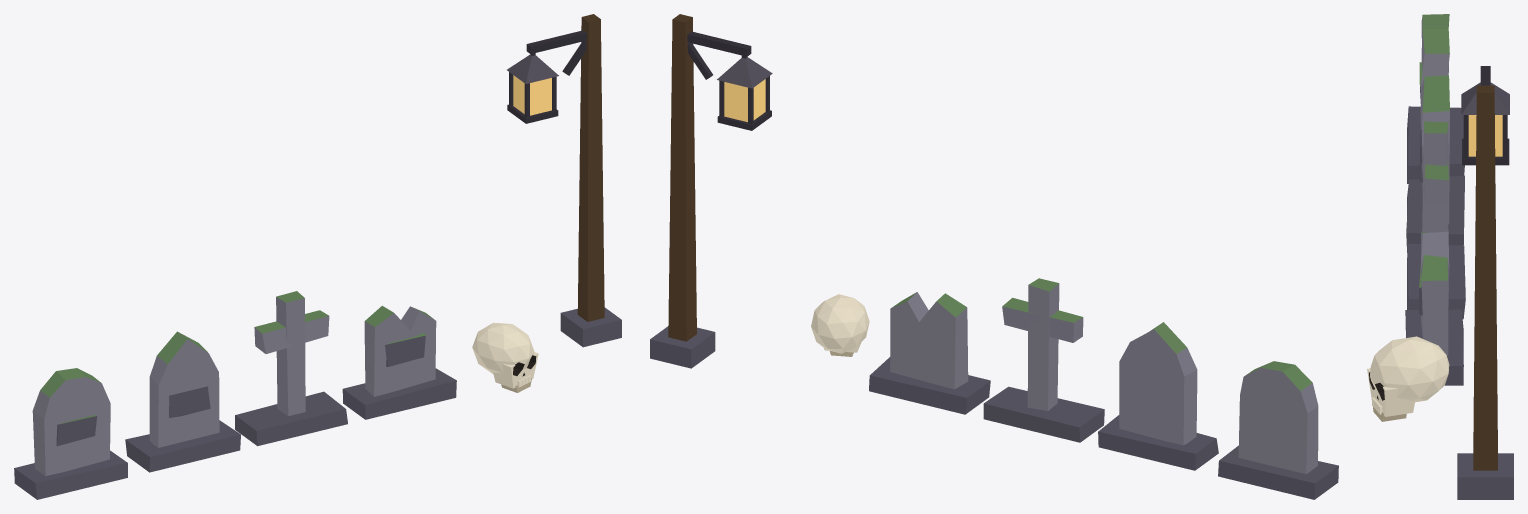
File: sample_props.glb
The picture shows the model from 3 angles, left to right: view 1: azimuth 30°, elevation 25°; view 2: azimuth 150°, elevation 25°; view 3: azimuth 270°, elevation 25°; orthographic projection. The views are drawn at different scales.
Visible parts, largest first — view 1: Lantern, Grave_Round, Grave_Gothic, Grave_Broken, Grave_Cross, Skull; view 2: Lantern, Grave_Gothic, Grave_Round, Grave_Broken, Grave_Cross, Skull; view 3: Lantern, Skull, Grave_Cross, Grave_Broken, Grave_Round, Grave_Gothic.
Boxes of the visible parts, bbox=[...] form: Lantern: bbox=[507, 14, 621, 347]; Grave_Round: bbox=[14, 368, 127, 499]; Grave_Gothic: bbox=[125, 331, 240, 472]; Grave_Broken: bbox=[342, 305, 456, 419]; Grave_Cross: bbox=[235, 291, 347, 446]; Skull: bbox=[472, 322, 538, 392]; Lantern: bbox=[650, 14, 772, 368]; Grave_Gothic: bbox=[1098, 322, 1218, 470]; Grave_Round: bbox=[1218, 361, 1338, 499]; Grave_Broken: bbox=[869, 292, 990, 414]; Grave_Cross: bbox=[983, 278, 1104, 442]; Skull: bbox=[811, 294, 869, 356]; Lantern: bbox=[1457, 66, 1513, 499]; Skull: bbox=[1367, 336, 1449, 421]; Grave_Cross: bbox=[1407, 121, 1465, 319]; Grave_Broken: bbox=[1405, 231, 1463, 385]; Grave_Round: bbox=[1407, 14, 1464, 183]; Grave_Gothic: bbox=[1406, 75, 1464, 252].
Size of the model in its own units: 14.03 by 7 by 2.34.
1 material, 1 textured.
